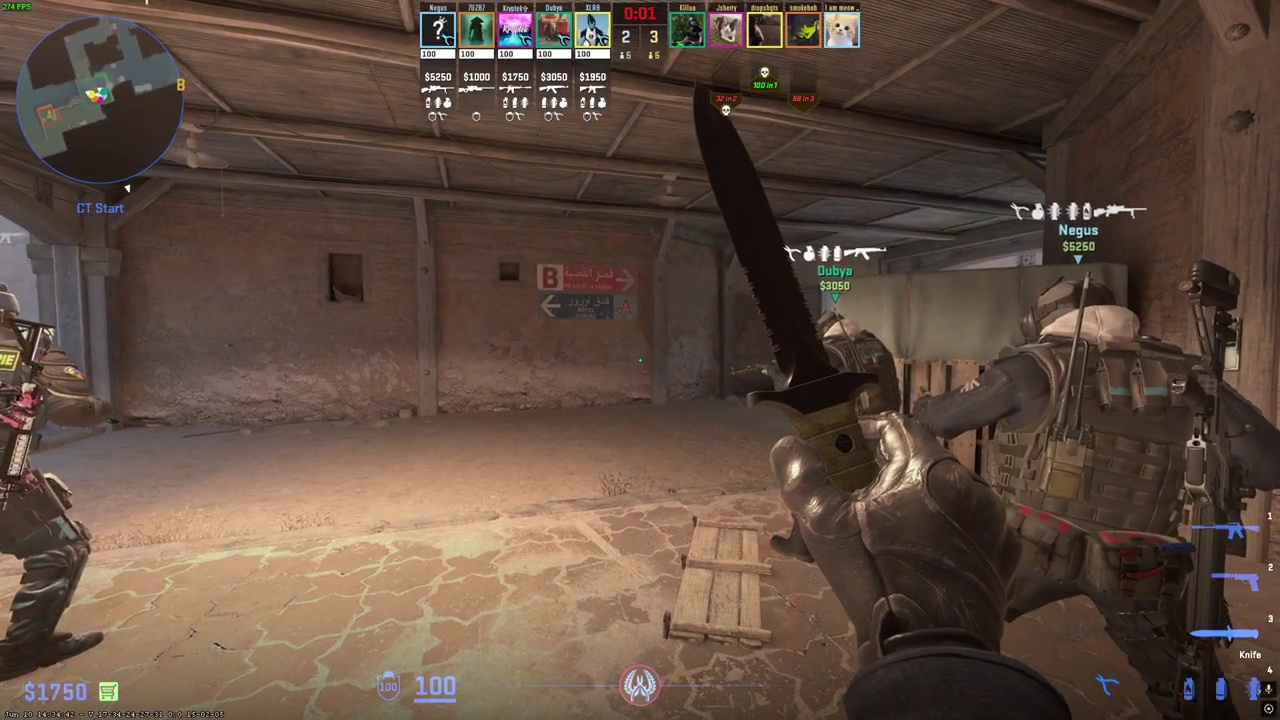CT: (944, 274, 1228, 675), (0, 281, 102, 688), (788, 316, 895, 489)
